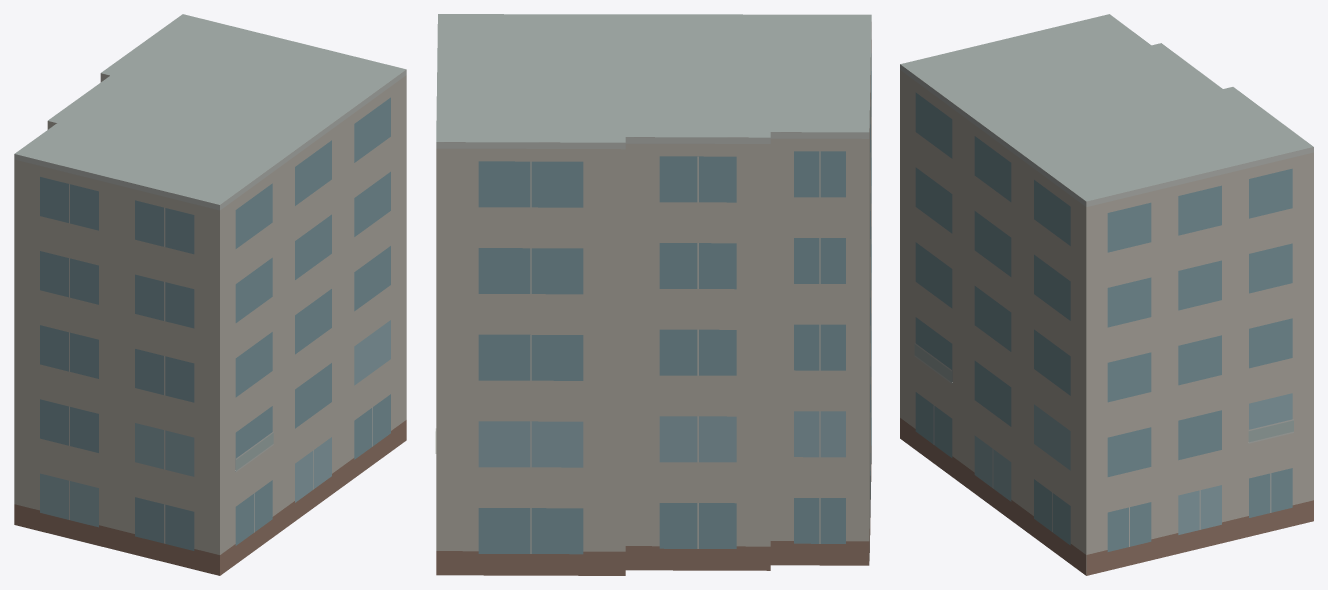
Rendered from survey-upis-32997182.glb.
3 renders of one model, left to right at view 1: azimuth 30°, elevation 25°; view 2: azimuth 150°, elevation 25°; view 3: azimuth 270°, elevation 25°, orthographic. The views are drawn at different scales.
Visible parts, largest first — view 1: survey-upis-32997182.tmp; view 2: survey-upis-32997182.tmp; view 3: survey-upis-32997182.tmp.
Boxes of the visible parts, x1,y1,x2,y2 form: survey-upis-32997182.tmp: [14, 14, 406, 575]; survey-upis-32997182.tmp: [435, 14, 871, 575]; survey-upis-32997182.tmp: [900, 14, 1313, 575].
Bounding box in the file's own units: 17.53 × 16.3 × 16.34.
